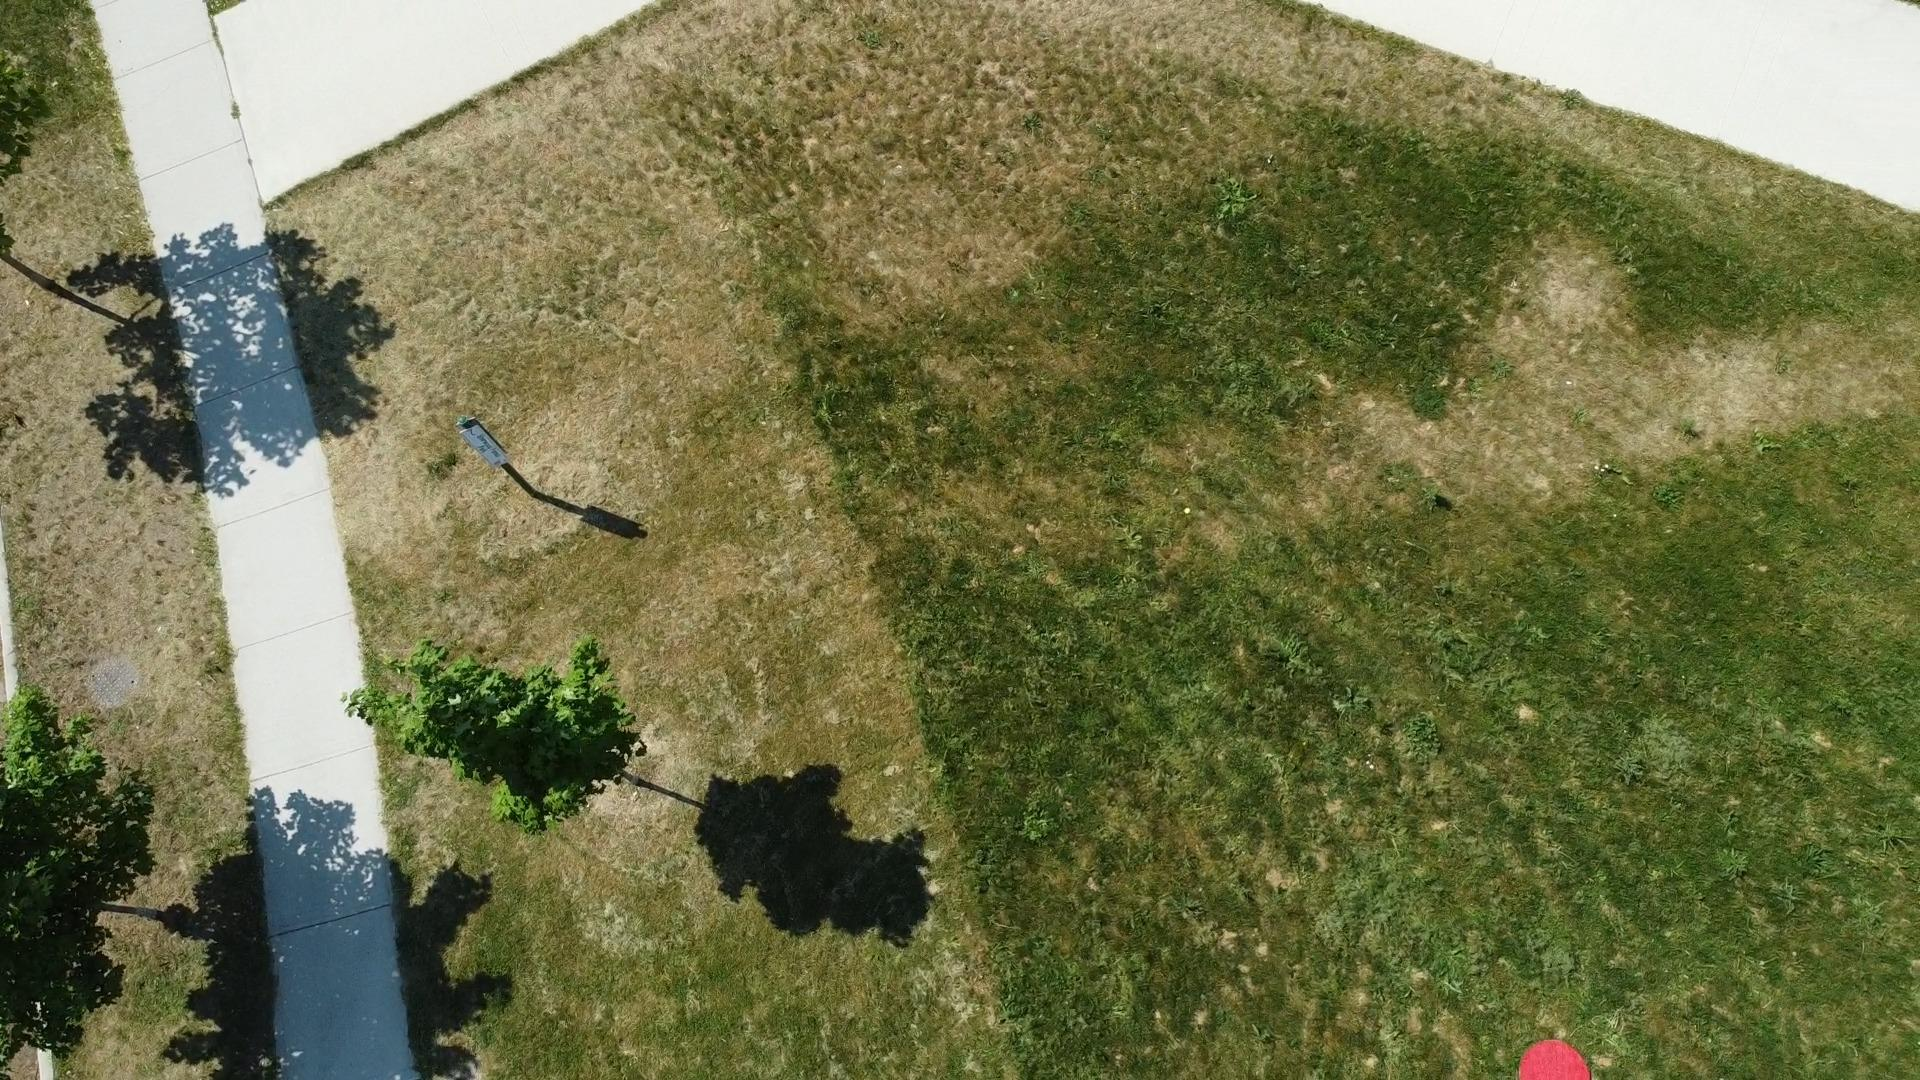Red: (1511, 1036, 1598, 1080)
